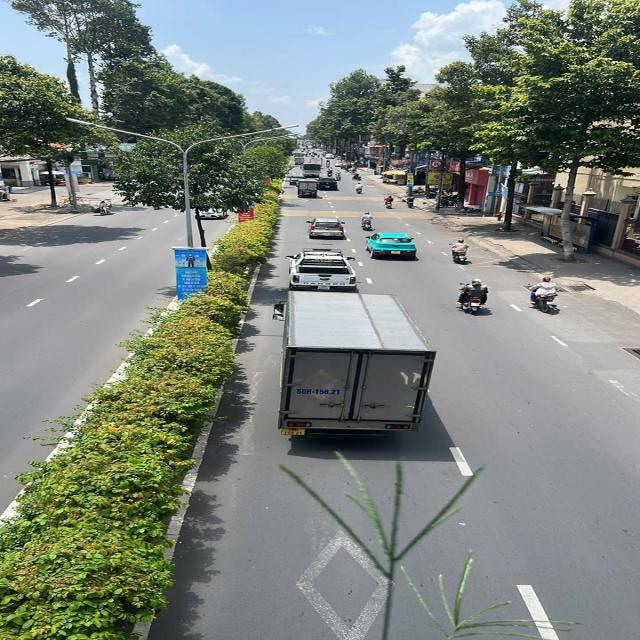Truck: (298, 179, 318, 199), (302, 163, 322, 177), (294, 157, 304, 166)
car: (286, 247, 356, 290), (364, 233, 419, 260), (305, 217, 348, 239), (319, 178, 339, 191), (292, 175, 306, 183), (335, 161, 345, 167), (326, 154, 335, 159)
motobyte: (455, 279, 499, 318), (530, 274, 562, 313), (450, 238, 470, 264), (355, 210, 375, 232), (382, 195, 395, 209), (404, 195, 415, 209), (354, 182, 364, 194), (327, 168, 334, 178), (336, 170, 341, 181), (325, 159, 330, 167)
